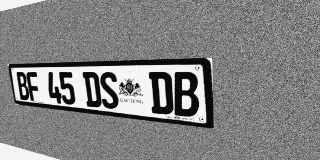4: (46, 72, 63, 104)
5: (58, 72, 76, 105)
B: (172, 72, 199, 118), (15, 72, 30, 100)
D: (149, 72, 174, 115), (82, 72, 102, 108)
F: (26, 72, 41, 102)
S: (99, 72, 120, 110)
